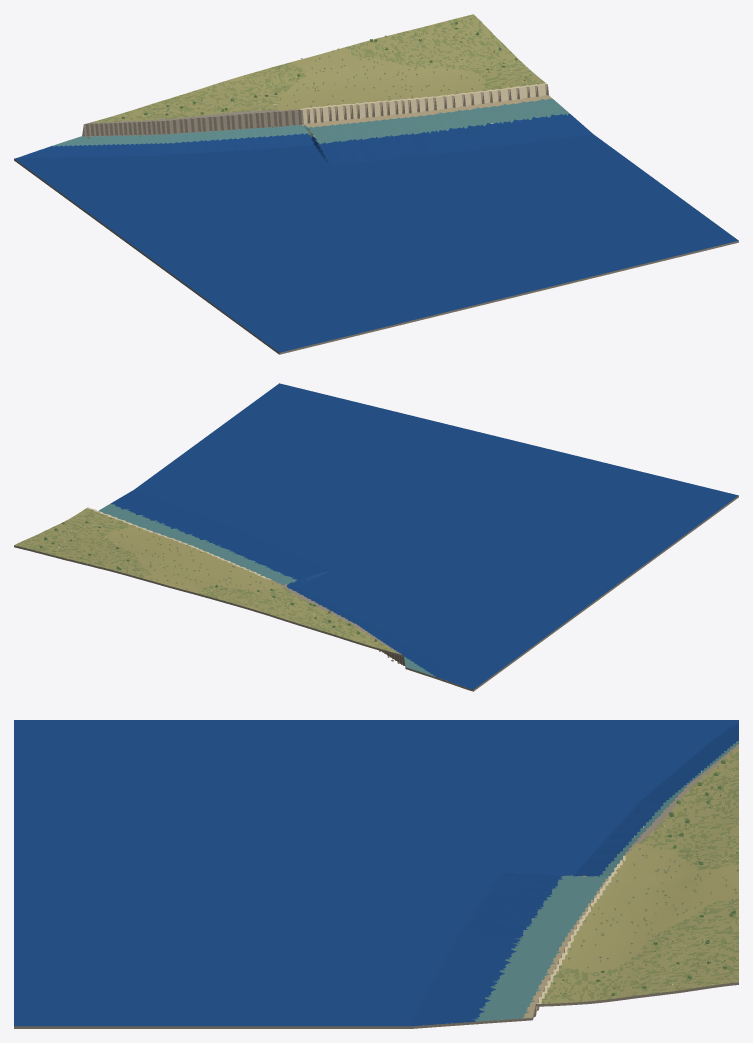
The model's file is parca_-3_-6-yakin.glb.
3 renders of one model, top to bottom at view 1: azimuth 30°, elevation 25°; view 2: azimuth 150°, elevation 25°; view 3: azimuth 270°, elevation 25°, orthographic. The views are drawn at different scales.
Parts seen in each view (by area): view 1: parca_-3_-6_arazi, parca_-3_-6_bitkiler; view 2: parca_-3_-6_arazi, parca_-3_-6_bitkiler; view 3: parca_-3_-6_arazi, parca_-3_-6_bitkiler.
Boxes of the visible parts, x1,y1,x2,y2 form: parca_-3_-6_arazi: (14, 14, 738, 354); parca_-3_-6_bitkiler: (110, 18, 526, 119); parca_-3_-6_arazi: (14, 383, 738, 691); parca_-3_-6_bitkiler: (25, 515, 381, 646); parca_-3_-6_arazi: (14, 720, 738, 1028); parca_-3_-6_bitkiler: (553, 756, 738, 996).
Bounding box in the file's own units: 1000 × 75.18 × 1000.
